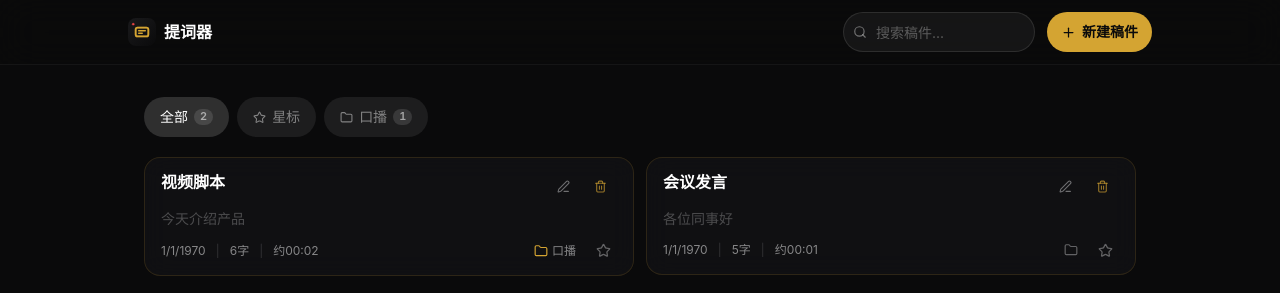
ScriptList › 文件夹 chips 从稿件派生，点选后只显示该文件夹的稿件
Note: chips 行的「口播」在卡片同名标签之前（DOM 顺序）
Click the button "口播 1".
click(376, 117)  # box [324, 97, 428, 137]
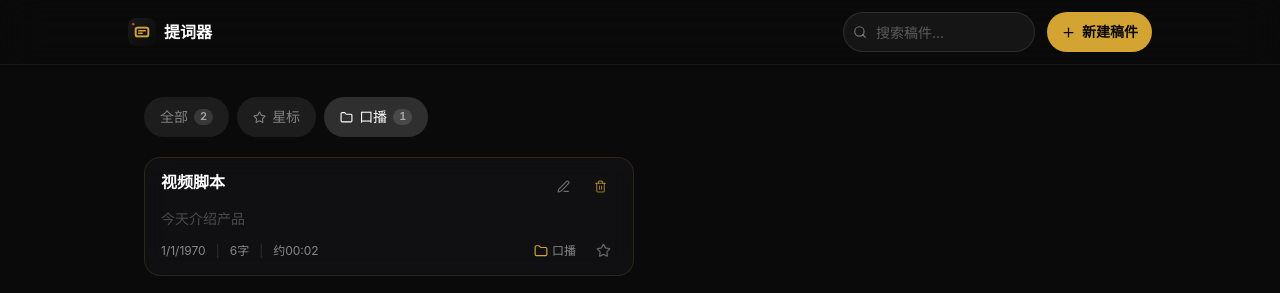
Check: the heading "视频脚本" is shown, box [161, 170, 225, 194]
Check: the heading "会议发言" is gone
Click the button "全部 2".
click(187, 117)  # box [144, 97, 229, 137]
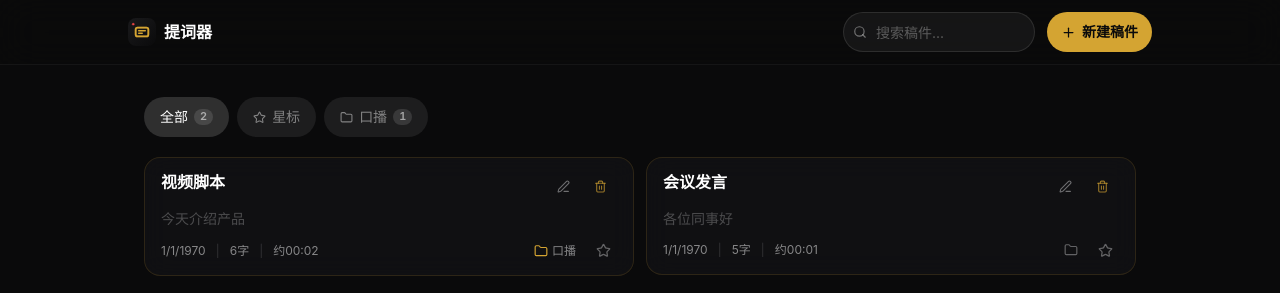
Check: the heading "会议发言" is shown, box [663, 170, 727, 194]
